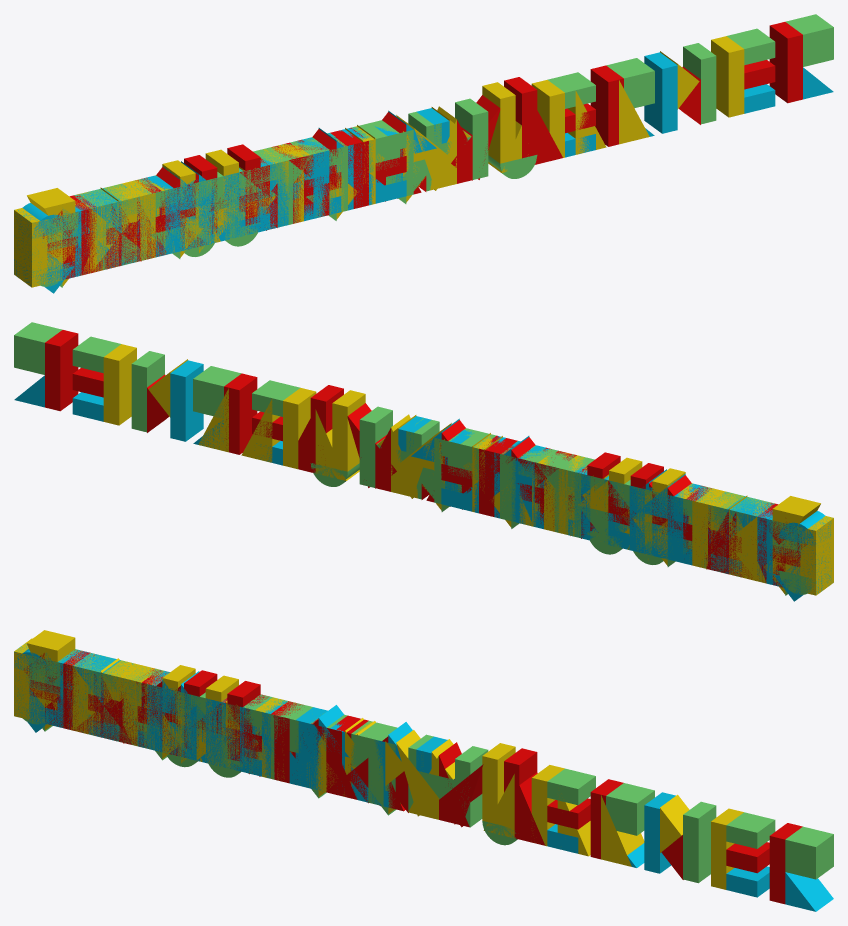
3 views of the same model, one above another, from view 1: azimuth 30°, elevation 25°; view 2: azimuth 150°, elevation 25°; view 3: azimuth 330°, elevation 25° (orthographic).
Parts seen in each view (by area): view 1: Cube_2x0_8 (×6), Cube_2x0_12 (×4), Cube_2x0_14 (×6), Cube_1x5 (×5), Cube_1x0_7 (×5), Cube_2x0_19 (×3), Cube_2x0_18 (×2), Ramp_2x5 (×3), Cube_2x0_13 (×2), Cube_2x0_17 (×3), Ramp_2x3 (×3), Cube_1x0_6 (×3) (+15 smaller); view 2: Cube_2x0_8 (×6), Cube_2x0_14 (×6), Cube_2x0_12 (×4), Cube_1x5 (×4), Cube_2x0_11 (×4), Ramp_2x2 (×4), Cube_1x0_7 (×4), Cube_2x0_13 (×2), Cube_2x0_18 (×3), Ramp_2x3 (×3), Ramp_2x5 (×2), Cube_2x0_19 (×3) (+17 smaller); view 3: Cube_2x0_8 (×5), Cube_1x5 (×4), Cube_2x0_12 (×4), Cube_2x0_14 (×3), Ramp_2x3 (×4), Cube_1x0_7 (×3), Cube_2x0_13 (×4), Cube_2x0_18 (×3), Ramp_2x5 (×3), Cube_2x0_19 (×3), Cube_2x0_17 (×3), Cube_2x0_11 (×3) (+13 smaller).
Part boxes in pixels (x1,y1,x2,y2): Cube_2x0_8 (×6): (14,36,744,287); Cube_2x0_12 (×4): (70,22,802,275); Cube_2x0_14 (×6): (138,43,716,260); Cube_1x5 (×5): (47,14,833,251); Cube_1x0_7 (×5): (89,28,775,220); Cube_2x0_19 (×3): (184,77,537,233); Cube_2x0_18 (×2): (205,82,515,230); Ramp_2x5 (×3): (32,80,649,287); Cube_2x0_13 (×2): (416,52,677,144); Cube_2x0_17 (×3): (223,141,328,240); Ramp_2x3 (×3): (62,110,562,279); Cube_1x0_6 (×3): (375,60,775,179); Cube_2x0_8 (×6): (103,344,833,595); Cube_2x0_14 (×6): (131,351,591,537); Cube_2x0_12 (×4): (45,330,778,583); Cube_1x5 (×4): (14,322,800,559); Cube_2x0_11 (×4): (574,467,774,584); Ramp_2x2 (×4): (315,409,766,583); Cube_1x0_7 (×4): (72,336,758,527); Cube_2x0_13 (×2): (170,360,584,536); Cube_2x0_18 (×3): (332,390,685,548); Ramp_2x3 (×3): (298,409,736,574); Ramp_2x5 (×2): (198,388,280,462); Cube_2x0_19 (×3): (310,385,663,532); Cube_2x0_8 (×5): (14,638,743,889); Cube_1x5 (×4): (29,656,833,879); Cube_2x0_12 (×4): (63,651,802,904); Cube_2x0_14 (×3): (368,728,716,883); Ramp_2x3 (×4): (101,673,545,845); Cube_1x0_7 (×3): (29,649,775,848); Cube_2x0_13 (×4): (210,697,675,873); Cube_2x0_18 (×3): (162,665,515,824); Ramp_2x5 (×3): (14,655,644,866); Cube_2x0_19 (×3): (184,670,537,792); Cube_2x0_17 (×3): (205,698,319,789); Cube_2x0_11 (×3): (57,649,270,771).
Bounding box in the file's own units: 25.93 × 2.71 × 1.
